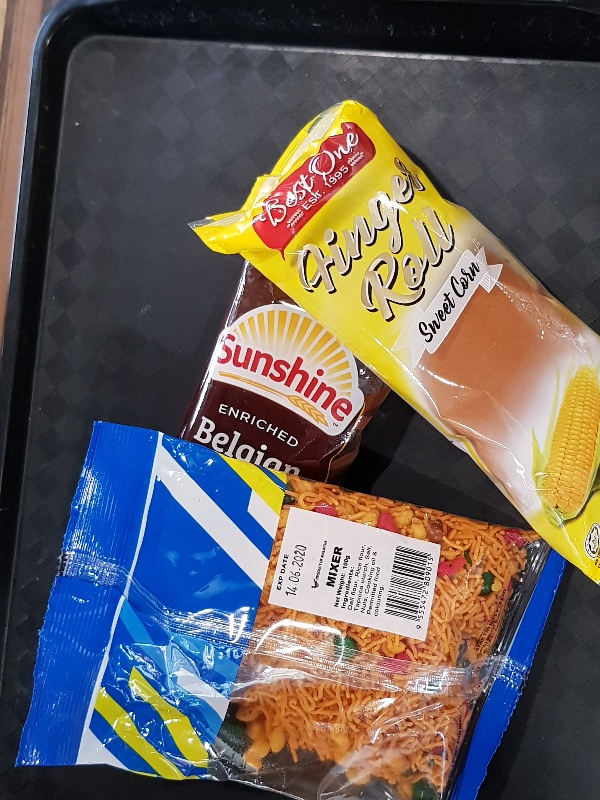Star Tidbits Mixer: (17, 420, 565, 800)
Sunshine Belgium Chocolate Wholemeal Cream Bun: (176, 260, 394, 483)
Tinges Roll Sweet Corn: (183, 95, 600, 593)
